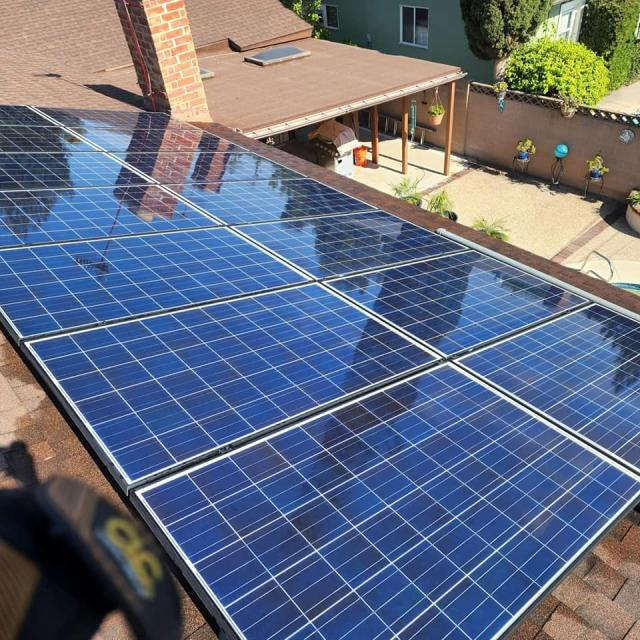clean-solar-panel: (0, 105, 640, 640)
